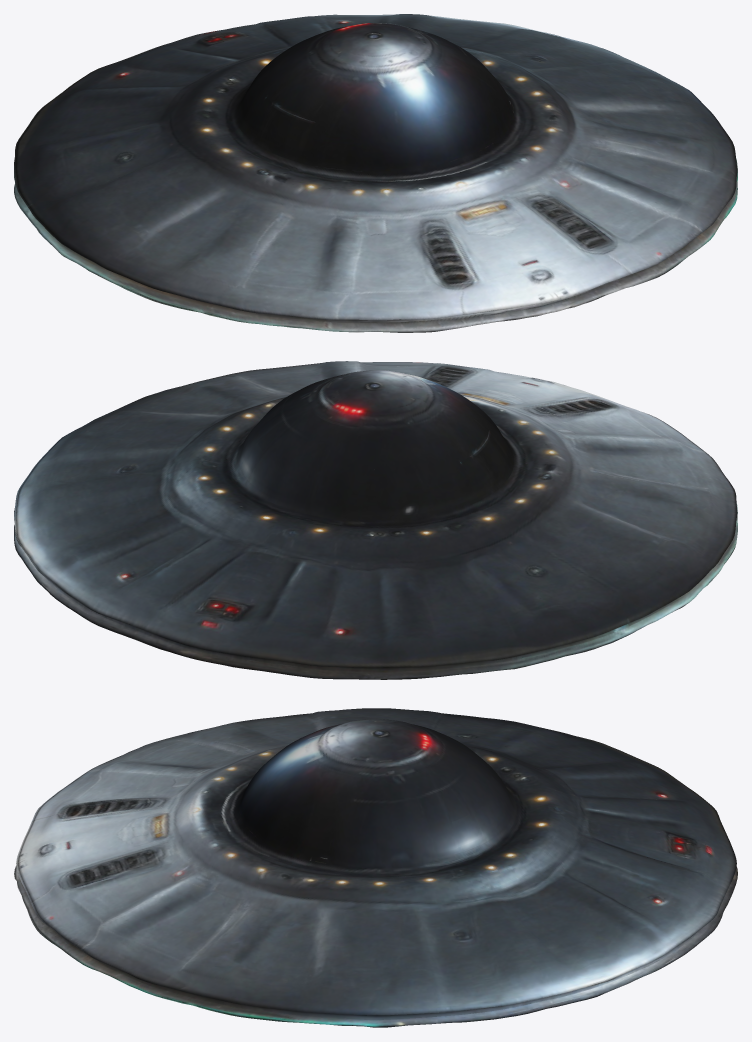
Rendered from Ufo.glb.
3 renders of one model, top to bottom at view 1: azimuth 30°, elevation 25°; view 2: azimuth 150°, elevation 25°; view 3: azimuth 270°, elevation 25°, orthographic.
Size of the model in its own units: 1.99 by 0.7222 by 1.99.
1 material, 1 textured.
